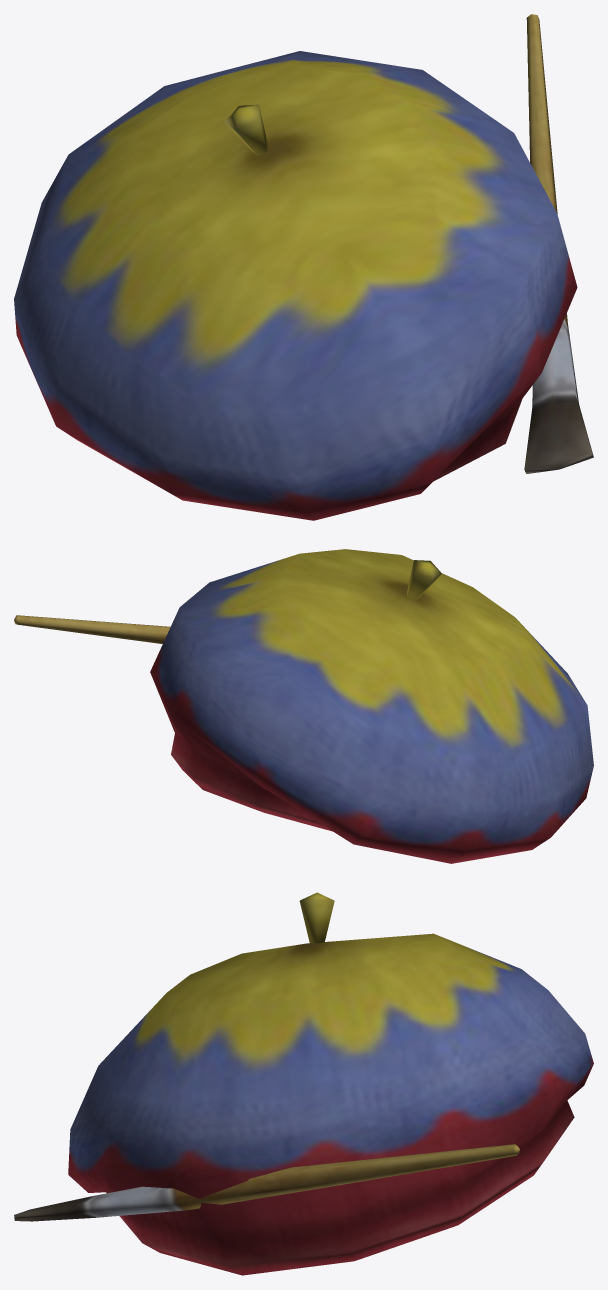
File: artistHat.glb
3 views of the same model, one above another, from view 1: azimuth 30°, elevation 25°; view 2: azimuth 150°, elevation 25°; view 3: azimuth 270°, elevation 25° (orthographic). The views are drawn at different scales.
Visible parts, largest first — view 1: artistHat; view 2: artistHat; view 3: artistHat.
Part boxes in pixels (<box>): artistHat: <box>14,14,593,520</box>; artistHat: <box>14,549,593,863</box>; artistHat: <box>14,892,593,1275</box>.
Bounding box in the file's own units: 0.4238 × 0.2333 × 0.4069.
1 material, 1 textured.
